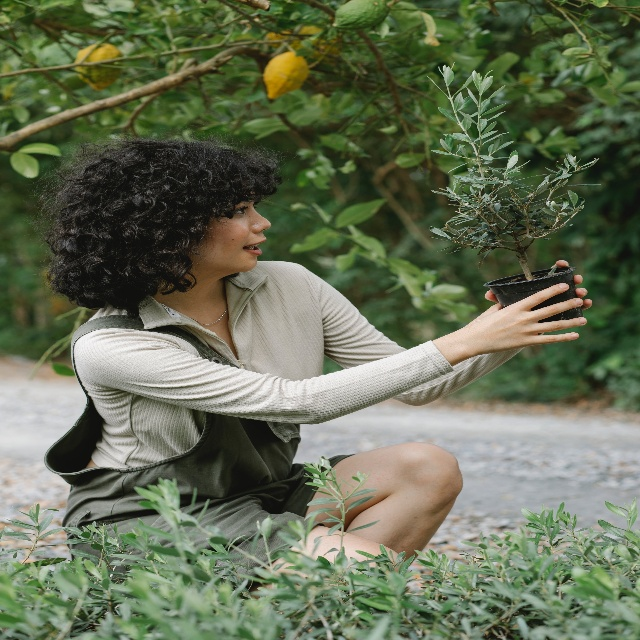Sin_guantes: (465, 282, 587, 354)
